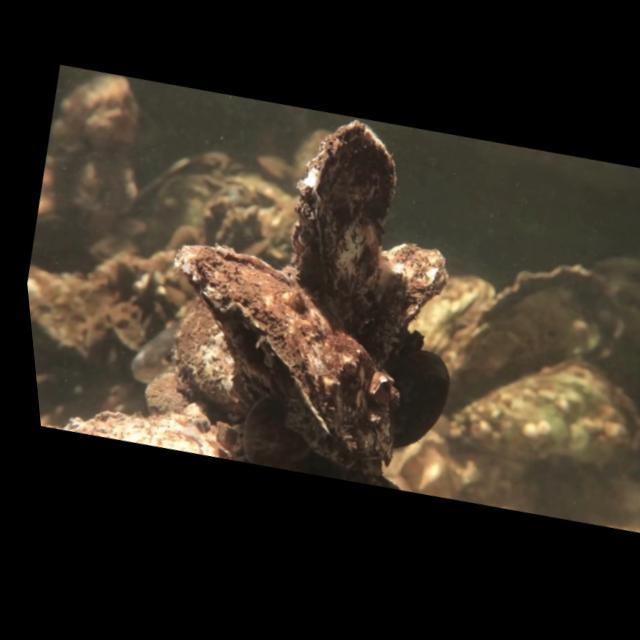Oyster-Closed: (167, 241, 413, 464), (286, 116, 415, 333), (168, 293, 276, 417), (360, 235, 457, 369)
Oyster-Indeterminate: (446, 261, 625, 398), (448, 361, 640, 471), (401, 349, 452, 448)
